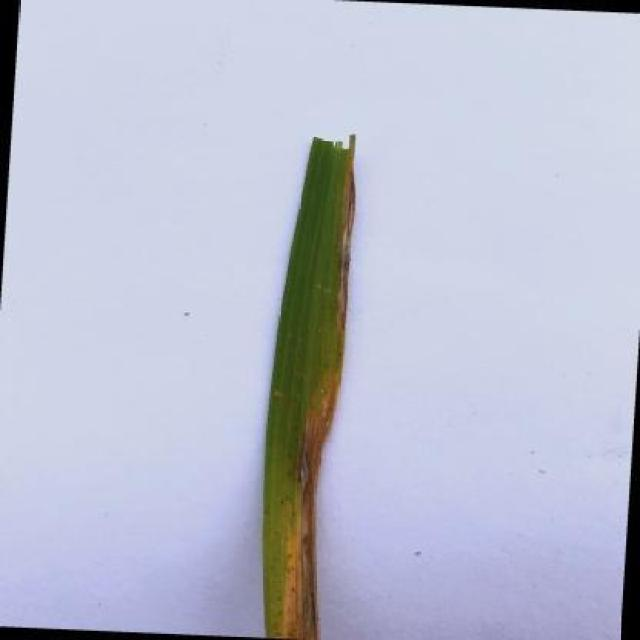Rice False Smut: (262, 135, 355, 640)
